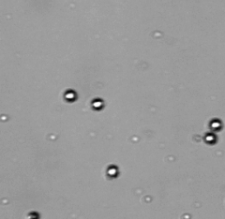Living Cell: (63, 89, 77, 102), (91, 97, 105, 110), (209, 118, 223, 131), (106, 165, 119, 177), (203, 132, 216, 144)
